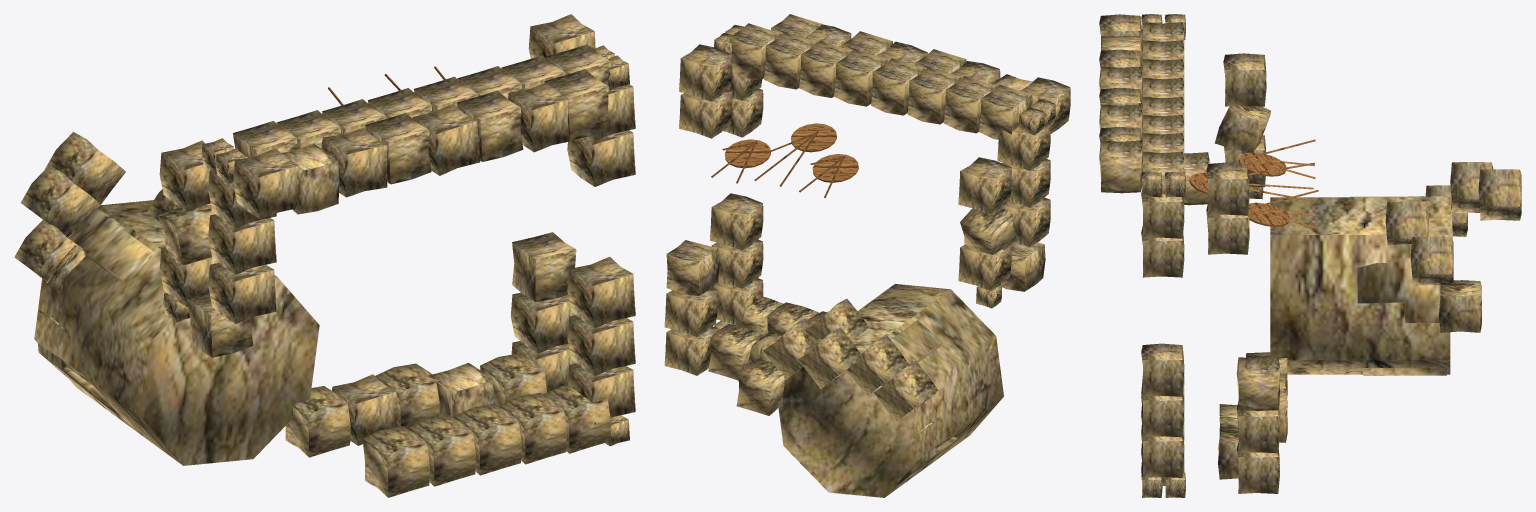
The model's file is archery_000010.obj.
The picture shows the model from 3 angles, left to right: view 1: azimuth 30°, elevation 25°; view 2: azimuth 150°, elevation 25°; view 3: azimuth 270°, elevation 25°; orthographic projection. The views are drawn at different scales.
Visible parts, largest first — view 1: Cylinder.003, Cylinder.054_Cylinder.062, Cylinder.053_Cylinder.061, Cylinder.000, Cylinder.018, Cylinder.043_Cylinder.049, Cylinder.013, Cylinder.010, Cylinder.046_Cylinder.052, Cylinder.019, Cylinder.027, Cylinder.001 (+33 smaller); view 2: Cylinder.003, Cylinder.054_Cylinder.062, Cylinder.055_Cylinder.063, Cylinder.013, Cylinder.014, Cylinder.018, Cylinder.042_Cylinder.048, Cylinder.012, Cylinder.022, Cylinder.044_Cylinder.050, Cylinder.021, Cylinder.023 (+33 smaller); view 3: Cylinder.003, Cylinder.055_Cylinder.063, Cylinder.053_Cylinder.061, Cylinder.054_Cylinder.062, Cylinder.013, Cylinder.034, Cylinder.042_Cylinder.048, Cylinder.014, Cylinder.018, Cylinder.044_Cylinder.050, Cylinder.012, Cylinder.011 (+28 smaller).
Boxes of the visible parts, <box> form: Cylinder.003: <box>34,200,319,465</box>; Cylinder.054_Cylinder.062: <box>14,132,125,292</box>; Cylinder.053_Cylinder.061: <box>38,208,154,416</box>; Cylinder.000: <box>362,426,429,497</box>; Cylinder.018: <box>567,256,635,327</box>; Cylinder.043_Cylinder.049: <box>233,148,301,219</box>; Cylinder.013: <box>512,232,576,301</box>; Cylinder.010: <box>285,386,350,457</box>; Cylinder.046_Cylinder.052: <box>208,263,276,323</box>; Cylinder.019: <box>567,315,635,375</box>; Cylinder.027: <box>321,127,387,197</box>; Cylinder.001: <box>408,415,475,486</box>; Cylinder.003: <box>778,284,1003,497</box>; Cylinder.054_Cylinder.062: <box>798,327,938,422</box>; Cylinder.055_Cylinder.063: <box>736,298,868,415</box>; Cylinder.013: <box>666,240,719,295</box>; Cylinder.014: <box>679,44,732,101</box>; Cylinder.018: <box>709,193,763,250</box>; Cylinder.042_Cylinder.048: <box>958,157,1011,214</box>; Cylinder.012: <box>664,287,717,336</box>; Cylinder.022: <box>871,58,924,115</box>; Cylinder.044_Cylinder.050: <box>960,208,1016,254</box>; Cylinder.021: <box>834,49,887,106</box>; Cylinder.023: <box>907,67,960,124</box>; Cylinder.003: <box>1270,197,1450,374</box>; Cylinder.055_Cylinder.063: <box>1385,201,1481,332</box>; Cylinder.053_Cylinder.061: <box>1350,196,1452,375</box>; Cylinder.054_Cylinder.062: <box>1425,162,1521,236</box>; Cylinder.013: <box>1236,357,1279,410</box>; Cylinder.034: <box>1099,140,1142,193</box>; Cylinder.042_Cylinder.048: <box>1223,53,1266,106</box>; Cylinder.014: <box>1206,162,1249,215</box>; Cylinder.018: <box>1141,343,1184,396</box>; Cylinder.044_Cylinder.050: <box>1214,105,1270,153</box>; Cylinder.012: <box>1236,401,1279,453</box>; Cylinder.011: <box>1236,442,1279,493</box>.
Bounding box in the file's own units: 9.16 × 7.81 × 9.2.
